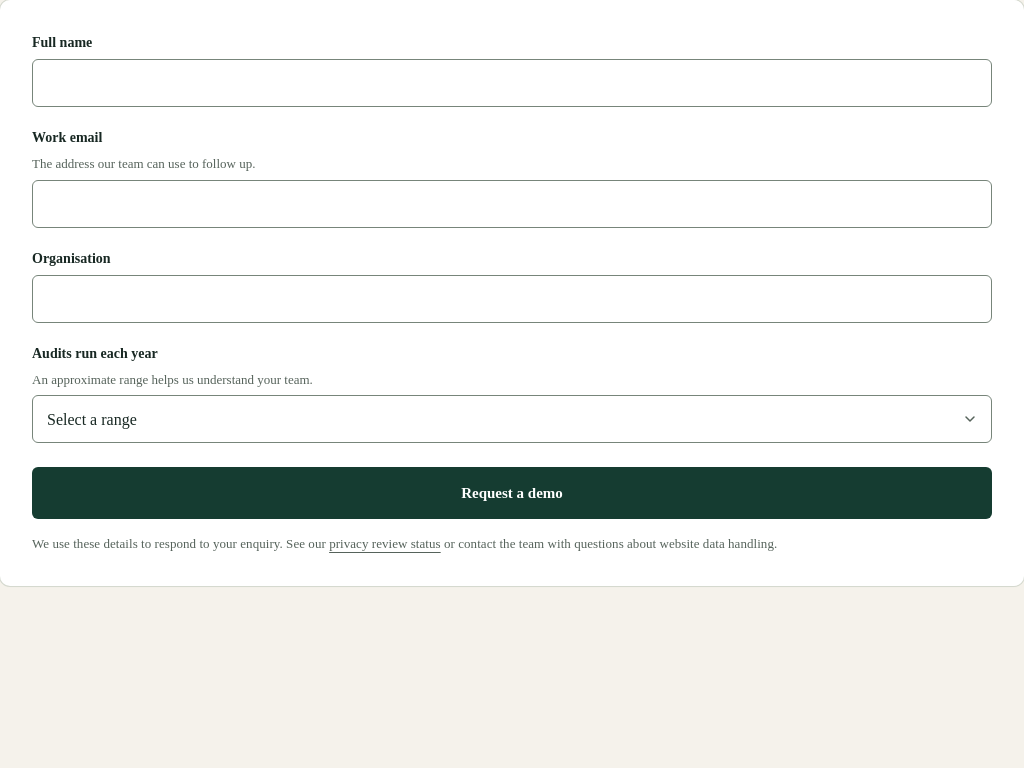
it: demo form › retains the draft after a network failure and allows retry
The image size is (1024, 768).
In the field labelled "Full name": (512, 83) top-left (32, 59), bottom-right (992, 107), type "Asha Rao"
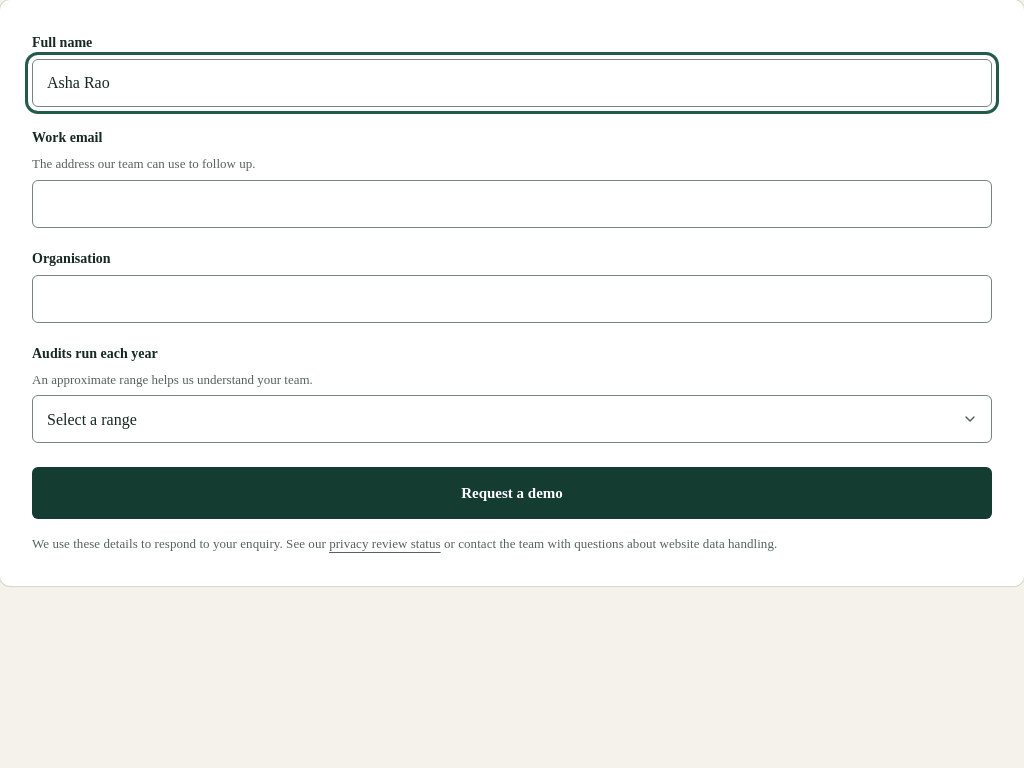
In the field labelled "Work email": (512, 204) top-left (32, 180), bottom-right (992, 228), type "asha@example.com"
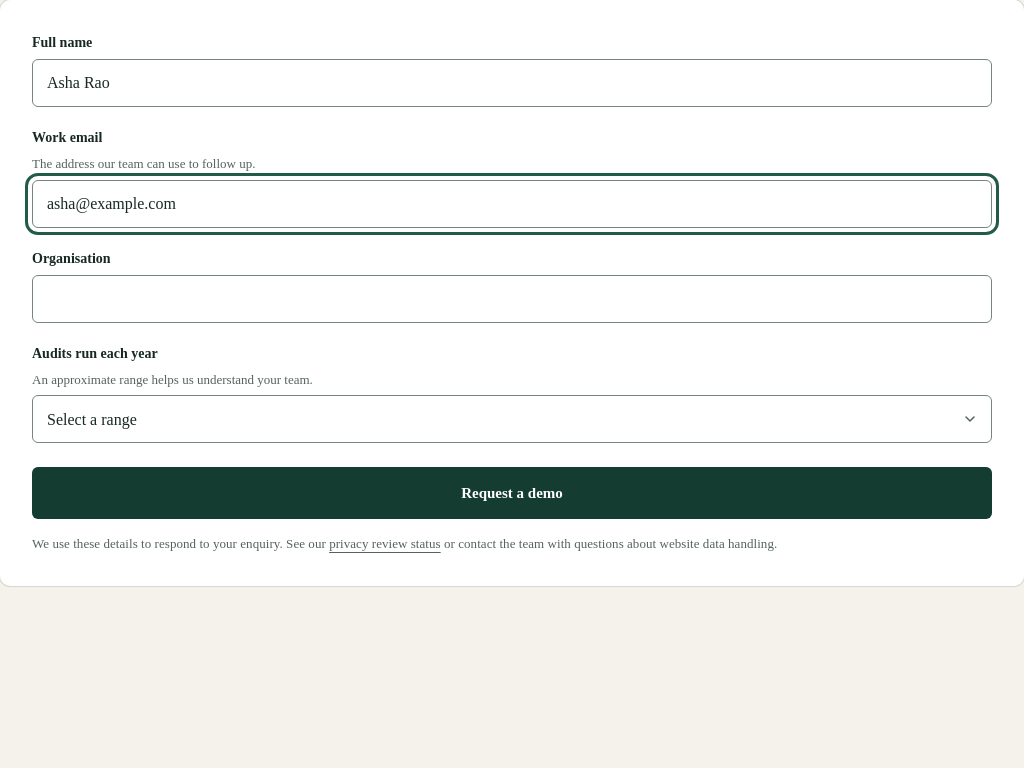
In the field labelled "Organisation": (512, 298) top-left (32, 274), bottom-right (992, 322), type "Synthetic Example"
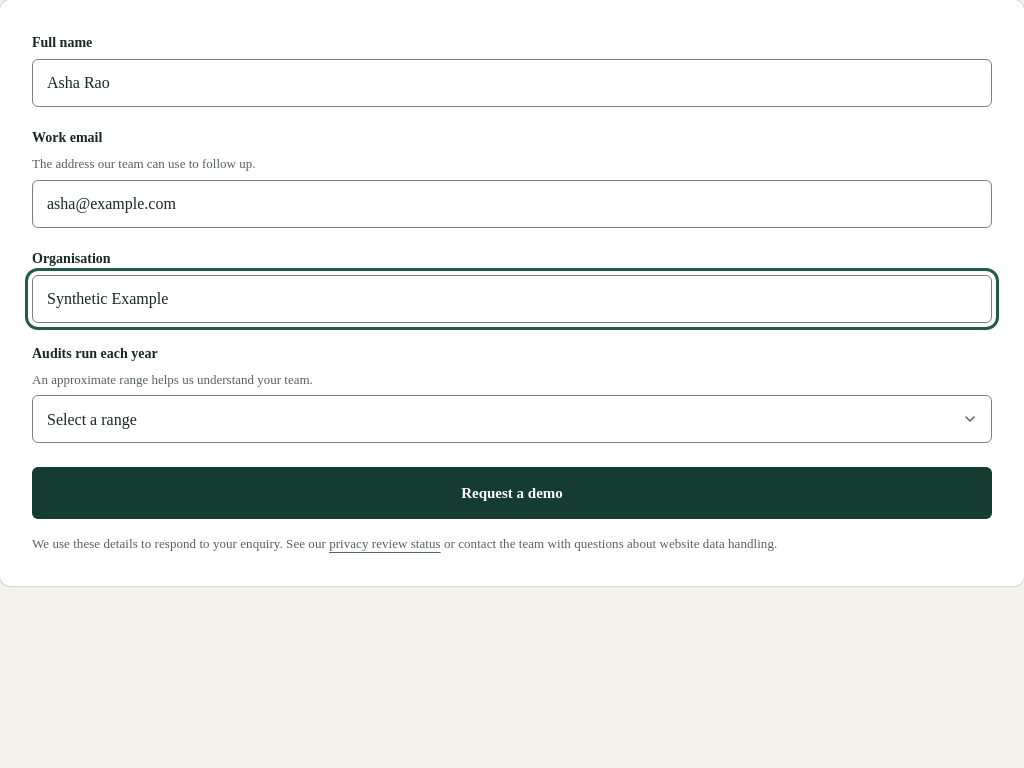
Select "11 – 50 audits a year" in the dropdown labelled "Audits run each year": (512, 419) top-left (32, 395), bottom-right (992, 443)
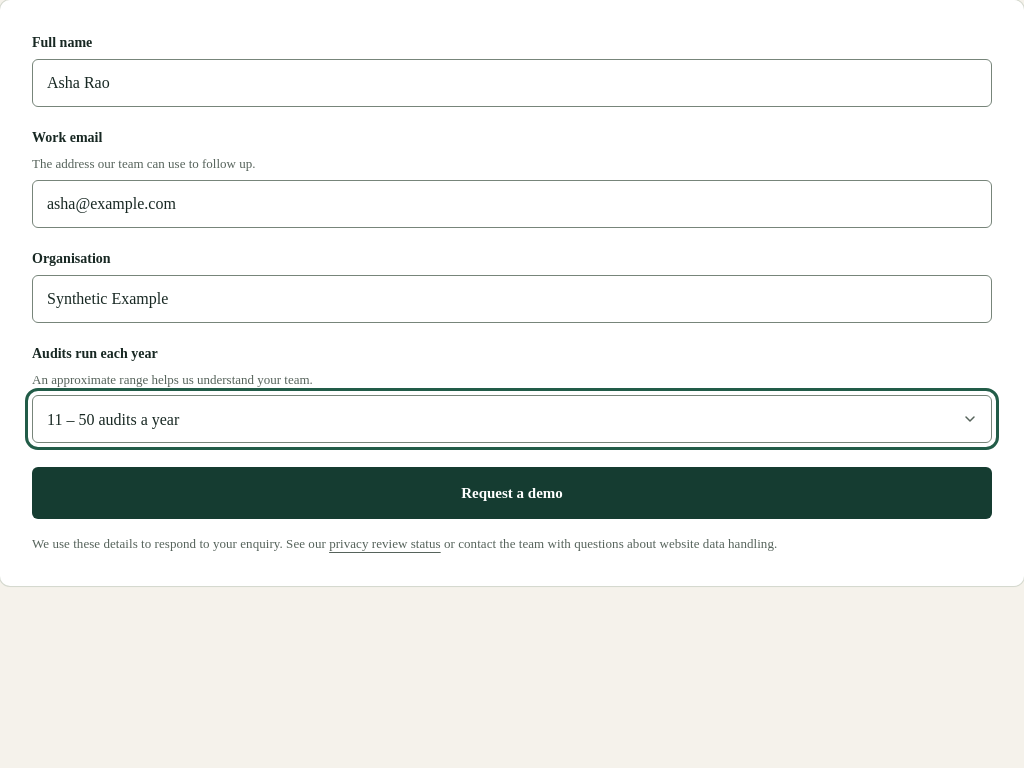
Click the button "Request a demo": (512, 493) top-left (32, 467), bottom-right (992, 519)
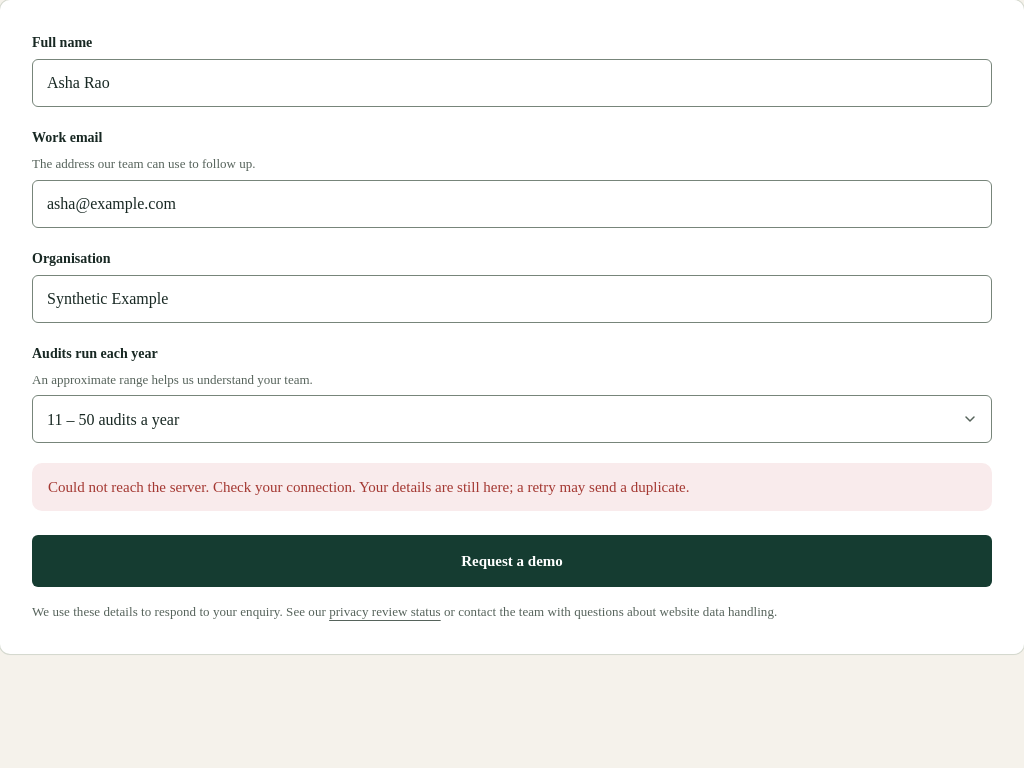
Expected: the button "Request a demo" is enabled, top-left (32, 535), bottom-right (992, 587)
Now the message shows "Could not reach the server", box top-left (48, 479), bottom-right (690, 495)
